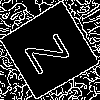Z: (24, 25, 79, 76)
